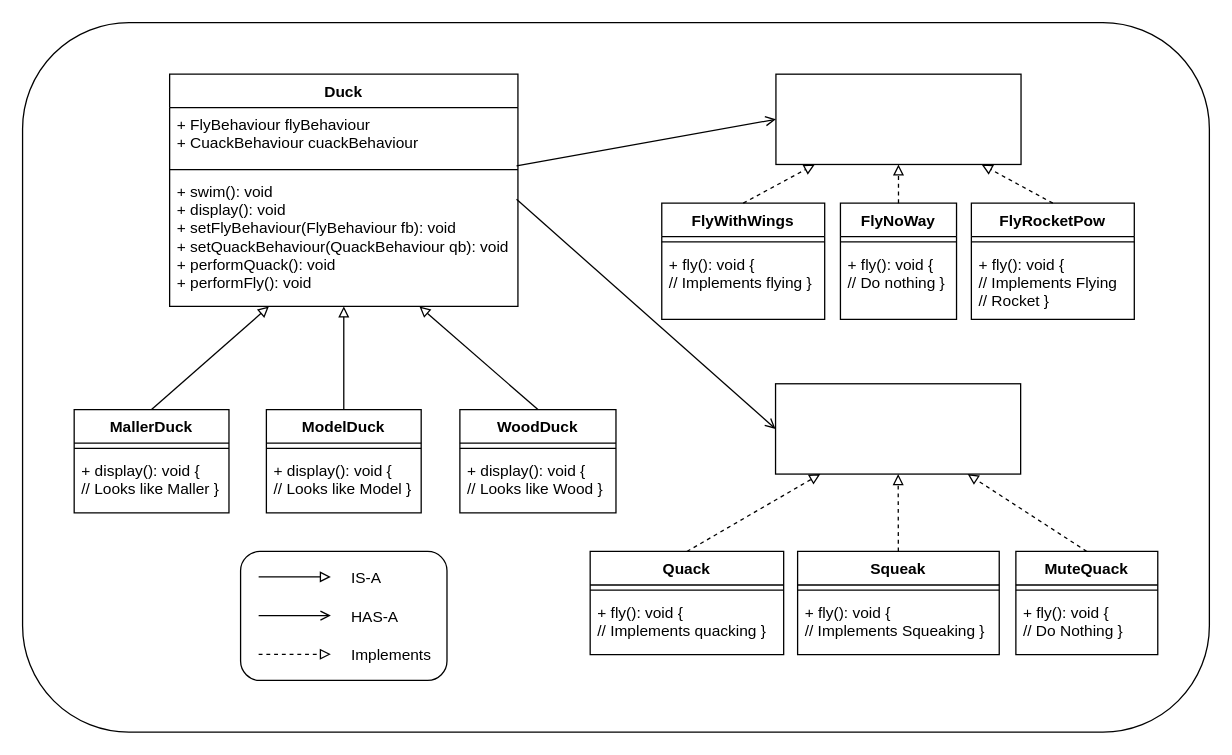
This 1232x755 diagram has some shape labels left out. Each missing label, with the centre of its shape:
<<Interface>> FlyBehaviour + fly(): (x=898, y=118)
<<Interface>> QuackBehaviour + quack(): (x=897, y=428)
